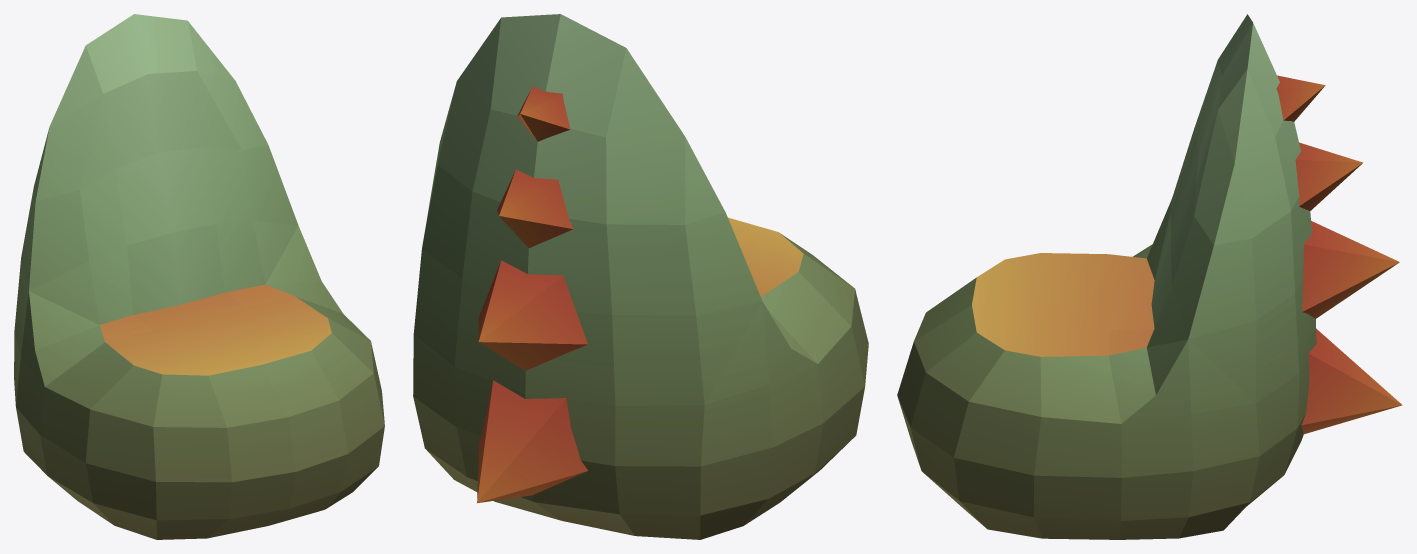
The model's file is sp_puff_dino_decoration_a.fbx.
The picture shows the model from 3 angles, left to right: view 1: azimuth 30°, elevation 25°; view 2: azimuth 150°, elevation 25°; view 3: azimuth 270°, elevation 25°; orthographic projection. The views are drawn at different scales.
Parts seen in each view (by area): view 1: sp_puff_dino_decoration_a; view 2: sp_puff_dino_decoration_a; view 3: sp_puff_dino_decoration_a.
Part boxes in pixels (x1,y1,x2,y2): sp_puff_dino_decoration_a: [14, 14, 384, 539]; sp_puff_dino_decoration_a: [413, 14, 868, 539]; sp_puff_dino_decoration_a: [897, 14, 1402, 539].
Size of the model in its own units: 60.1 by 77.16 by 77.83.
